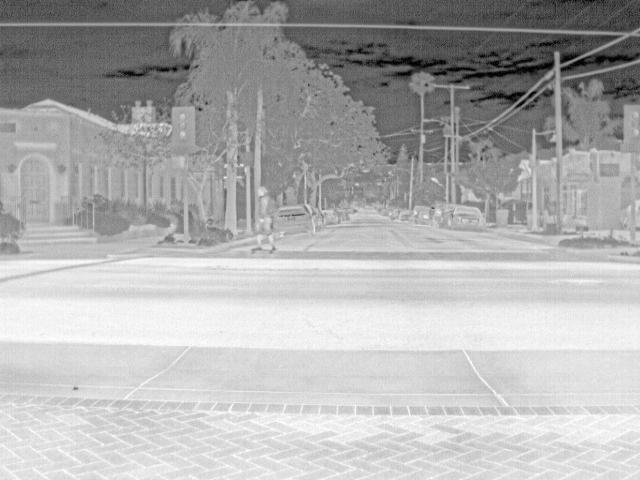car: (277, 204, 315, 236), (442, 206, 485, 232), (414, 205, 430, 225), (312, 205, 326, 227), (430, 203, 443, 226), (326, 208, 340, 224), (399, 208, 413, 223), (336, 208, 351, 221)
person: (255, 184, 277, 250)
